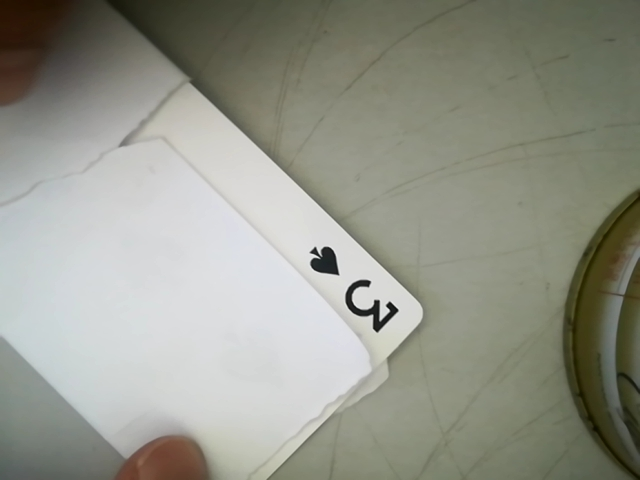ht 3: (302, 233, 410, 343)
